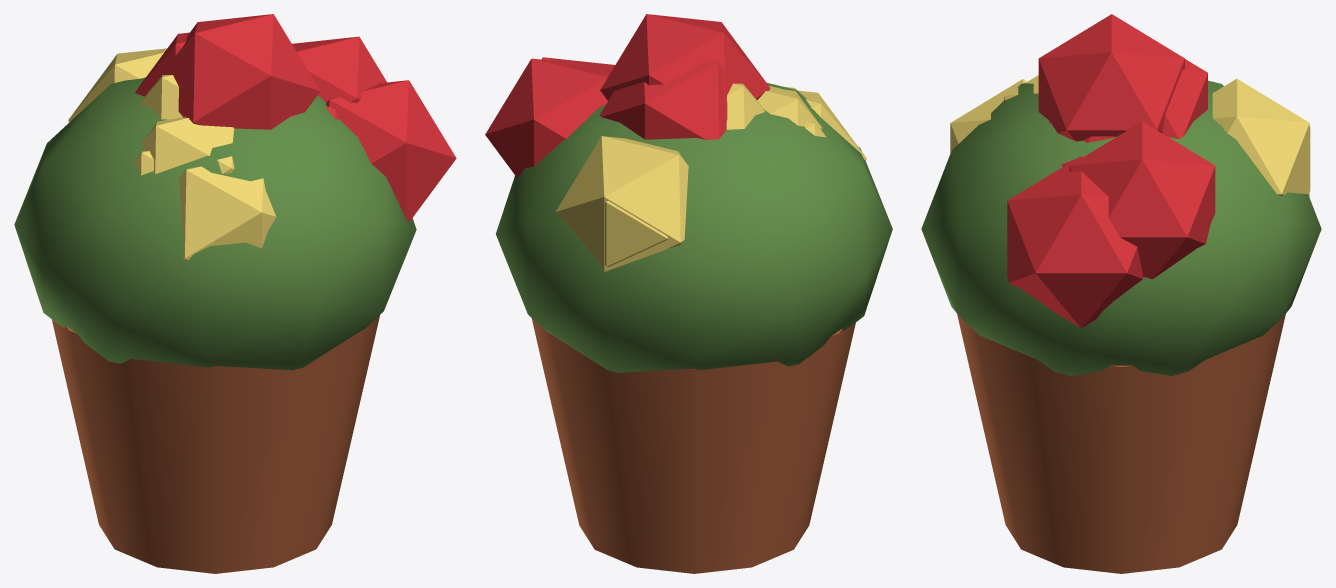
File: flower-pot.glb
The picture shows the model from 3 angles, left to right: view 1: azimuth 30°, elevation 25°; view 2: azimuth 150°, elevation 25°; view 3: azimuth 270°, elevation 25°; orthographic projection.
Visible parts, largest first — view 1: flower-pot; view 2: flower-pot; view 3: flower-pot.
Boxes of the visible parts, left/top/right/bottom form: flower-pot: left=14, top=14, right=456, bottom=573; flower-pot: left=485, top=14, right=892, bottom=573; flower-pot: left=921, top=14, right=1321, bottom=573.
Bounding box in the file's own units: 0.4059 × 0.5223 × 0.38.
